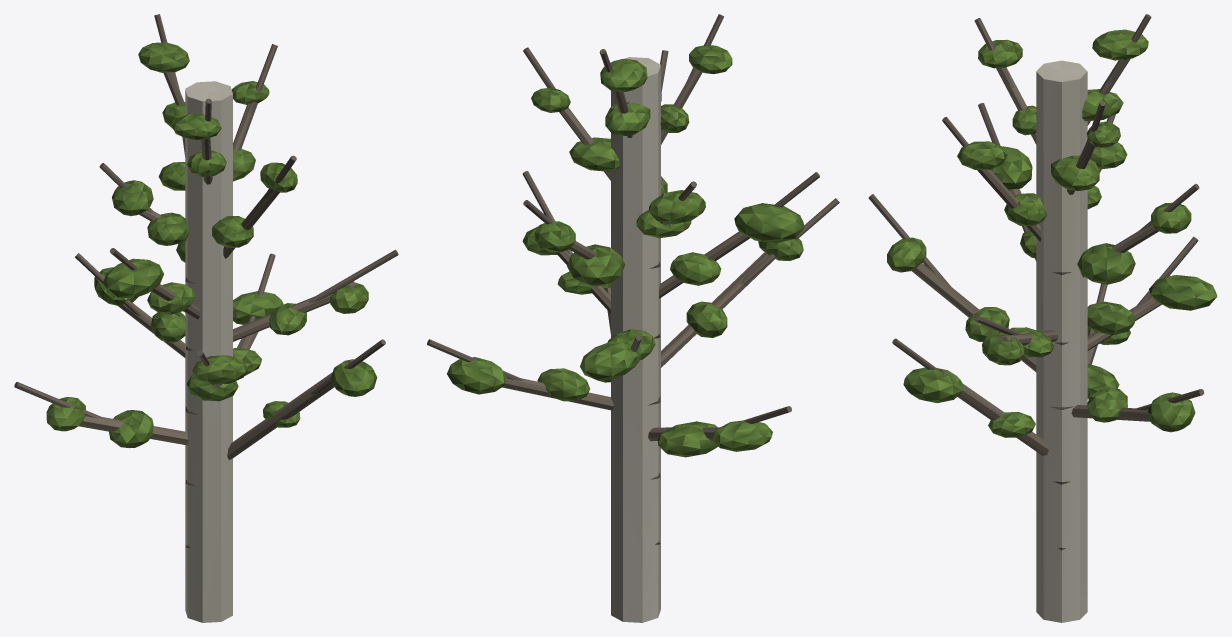
The model's file is standard-lod1.glb.
3 views of the same model, side by side, from view 1: azimuth 30°, elevation 25°; view 2: azimuth 150°, elevation 25°; view 3: azimuth 270°, elevation 25° (orthographic). The views are drawn at different scales.
Parts seen in each view (by area): view 1: birch-bark-branches-leaf-masses; view 2: birch-bark-branches-leaf-masses; view 3: birch-bark-branches-leaf-masses.
Part boxes in pixels (x1,y1,x2,y2): birch-bark-branches-leaf-masses: (14,14,398,622); birch-bark-branches-leaf-masses: (427,14,839,622); birch-bark-branches-leaf-masses: (868,14,1217,622).
Bounding box in the file's own units: 9.95 × 16.98 × 9.07.
